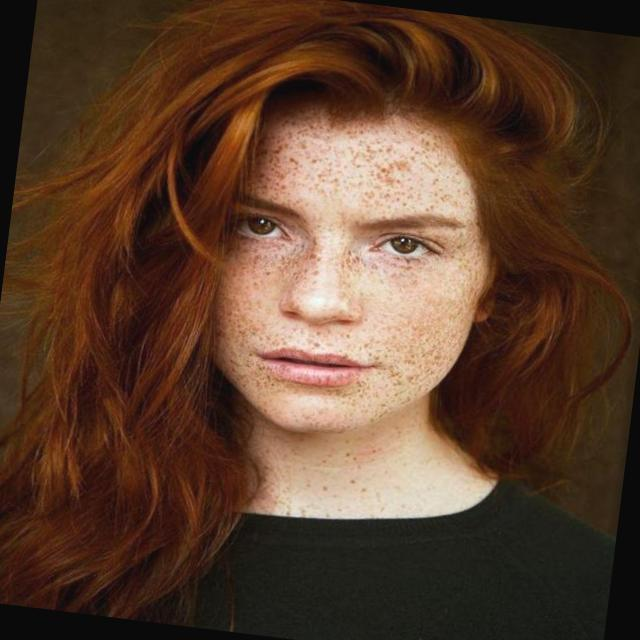freckle: (235, 113, 468, 215), (350, 252, 476, 400), (211, 235, 314, 365), (231, 363, 398, 428), (311, 198, 368, 282)
